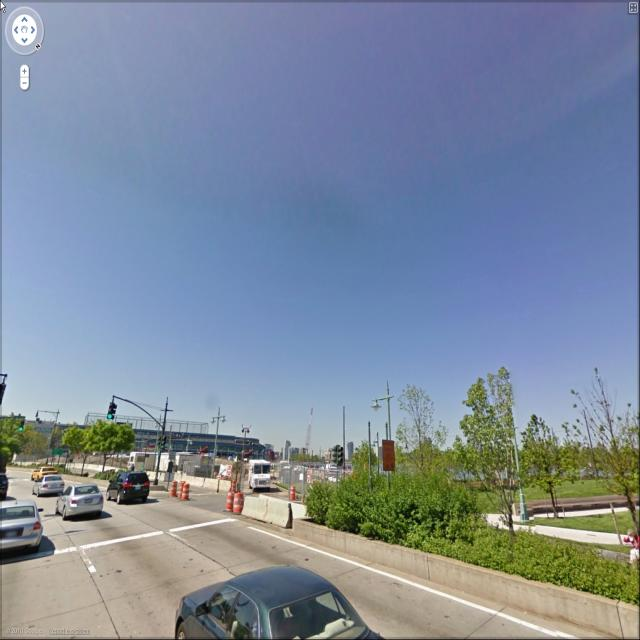b_2: (113, 416, 280, 464)
